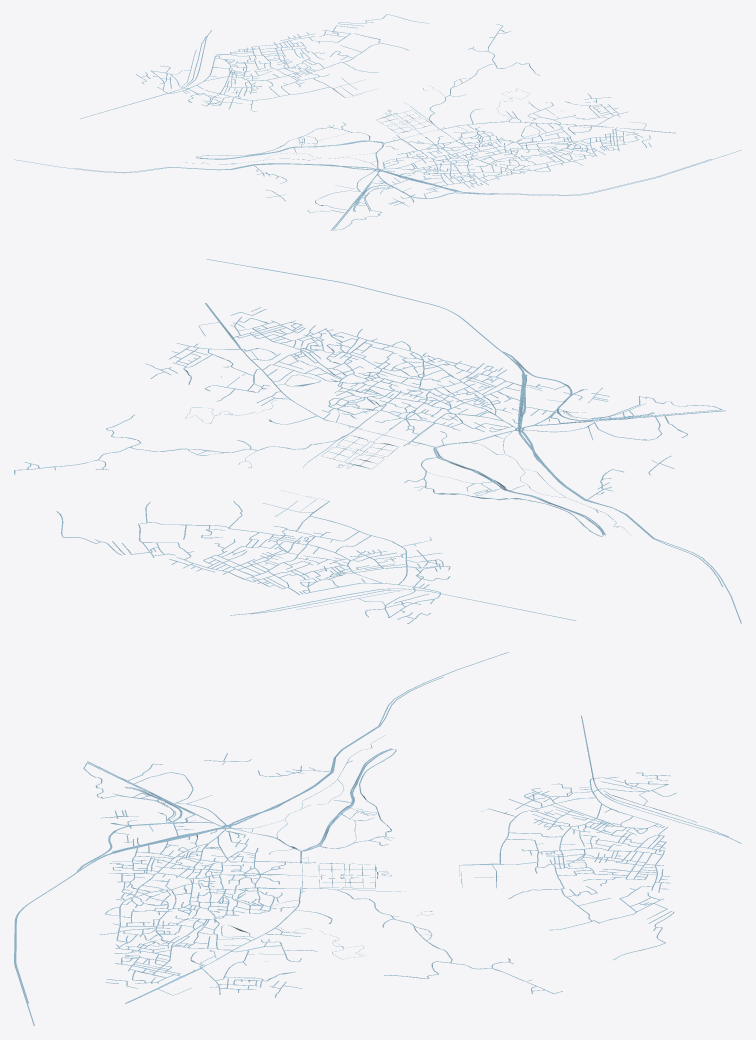
The model's file is roads.glb.
3 renders of one model, top to bottom at view 1: azimuth 30°, elevation 25°; view 2: azimuth 150°, elevation 25°; view 3: azimuth 270°, elevation 25°, orthographic. The views are drawn at different scales.
Parts seen in each view (by area): view 1: roads; view 2: roads; view 3: roads.
Boxes of the visible parts, x1=… form: roads: x1=14, y1=14, x2=741, y2=230; roads: x1=14, y1=259, x2=741, y2=623; roads: x1=14, y1=652, x2=741, y2=1025.
Size of the model in its own units: 4525 by 28.72 by 3723.
